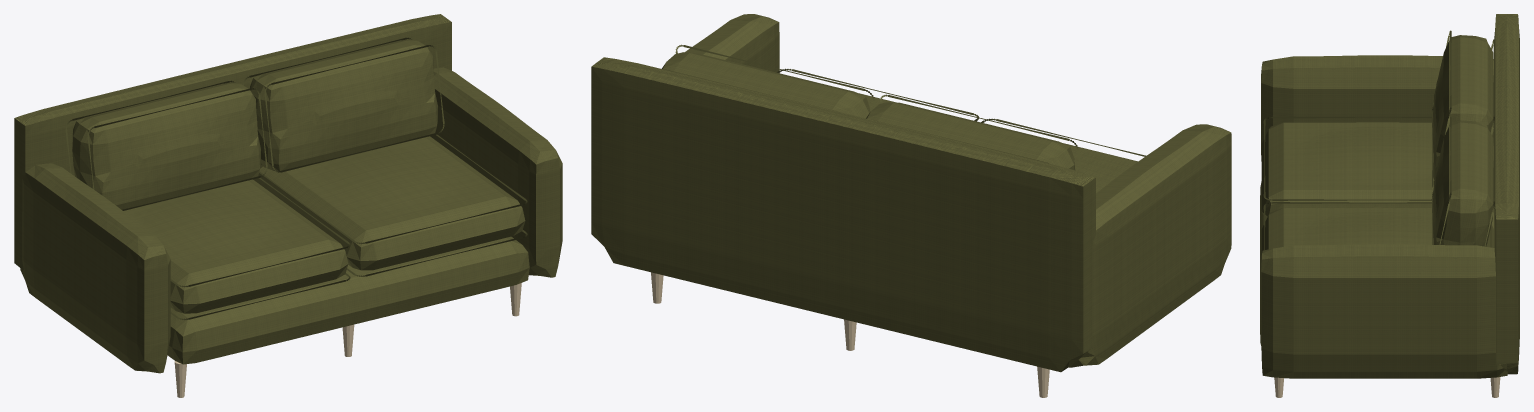
The model's file is ATL-SOF-2-seat.glb.
The picture shows the model from 3 angles, left to right: view 1: azimuth 30°, elevation 25°; view 2: azimuth 150°, elevation 25°; view 3: azimuth 270°, elevation 25°; orthographic projection. The views are drawn at different scales.
Visible parts, largest first — view 1: arm-pad-l:fabric:eyJwcmVzZXQiOiJoZXJyaW5nYm9uZSIsIndhcnAiOiJ, seat-2:fabric:eyJwcmVzZXQiOiJoZXJyaW5nYm9uZSIsIndhcnAiOiJvbG, seat-1:fabric:eyJwcmVzZXQiOiJoZXJyaW5nYm9uZSIsIndhcnAiOiJvbG, deck:fabric:eyJwcmVzZXQiOiJoZXJyaW5nYm9uZSIsIndhcnAiOiJvbGl2, back-2:fabric:eyJwcmVzZXQiOiJoZXJyaW5nYm9uZSIsIndhcnAiOiJvbG, back-1:fabric:eyJwcmVzZXQiOiJoZXJyaW5nYm9uZSIsIndhcnAiOiJvbG, arm-pad-r:fabric:eyJwcmVzZXQiOiJoZXJyaW5nYm9uZSIsIndhcnAiOiJ, back-pad:fabric:eyJwcmVzZXQiOiJoZXJyaW5nYm9uZSIsIndhcnAiOiJv, back-2:piping:pbr, back-1:piping:pbr, seat-2:piping:pbr, seat-1:piping:pbr; view 2: back-pad:fabric:eyJwcmVzZXQiOiJoZXJyaW5nYm9uZSIsIndhcnAiOiJv, arm-pad-l:fabric:eyJwcmVzZXQiOiJoZXJyaW5nYm9uZSIsIndhcnAiOiJ, back-1:fabric:eyJwcmVzZXQiOiJoZXJyaW5nYm9uZSIsIndhcnAiOiJvbG, back-2:fabric:eyJwcmVzZXQiOiJoZXJyaW5nYm9uZSIsIndhcnAiOiJvbG, arm-pad-r:fabric:eyJwcmVzZXQiOiJoZXJyaW5nYm9uZSIsIndhcnAiOiJ, seat-1:fabric:eyJwcmVzZXQiOiJoZXJyaW5nYm9uZSIsIndhcnAiOiJvbG; view 3: arm-pad-r:fabric:eyJwcmVzZXQiOiJoZXJyaW5nYm9uZSIsIndhcnAiOiJ, seat-1:fabric:eyJwcmVzZXQiOiJoZXJyaW5nYm9uZSIsIndhcnAiOiJvbG, arm-pad-l:fabric:eyJwcmVzZXQiOiJoZXJyaW5nYm9uZSIsIndhcnAiOiJ, back-pad:fabric:eyJwcmVzZXQiOiJoZXJyaW5nYm9uZSIsIndhcnAiOiJv, back-2:fabric:eyJwcmVzZXQiOiJoZXJyaW5nYm9uZSIsIndhcnAiOiJvbG, seat-2:fabric:eyJwcmVzZXQiOiJoZXJyaW5nYm9uZSIsIndhcnAiOiJvbG, back-1:fabric:eyJwcmVzZXQiOiJoZXJyaW5nYm9uZSIsIndhcnAiOiJvbG, seat-1:piping:pbr, back-2:piping:pbr, back-1:piping:pbr, seat-2:piping:pbr, deck:fabric:eyJwcmVzZXQiOiJoZXJyaW5nYm9uZSIsIndhcnAiOiJvbGl2.
Boxes of the visible parts, x1,y1,x2,y2 form: arm-pad-l:fabric:eyJwcmVzZXQiOiJoZXJyaW5nYm9uZSIsIndhcnAiOiJ: [20, 163, 170, 373]; seat-2:fabric:eyJwcmVzZXQiOiJoZXJyaW5nYm9uZSIsIndhcnAiOiJvbG: [253, 136, 525, 270]; seat-1:fabric:eyJwcmVzZXQiOiJoZXJyaW5nYm9uZSIsIndhcnAiOiJvbG: [123, 179, 348, 313]; deck:fabric:eyJwcmVzZXQiOiJoZXJyaW5nYm9uZSIsIndhcnAiOiJvbGl2: [167, 236, 529, 364]; back-2:fabric:eyJwcmVzZXQiOiJoZXJyaW5nYm9uZSIsIndhcnAiOiJvbG: [250, 39, 437, 171]; back-1:fabric:eyJwcmVzZXQiOiJoZXJyaW5nYm9uZSIsIndhcnAiOiJvbG: [72, 82, 260, 209]; arm-pad-r:fabric:eyJwcmVzZXQiOiJoZXJyaW5nYm9uZSIsIndhcnAiOiJ: [430, 67, 562, 277]; back-pad:fabric:eyJwcmVzZXQiOiJoZXJyaW5nYm9uZSIsIndhcnAiOiJv: [14, 14, 451, 269]; back-2:piping:pbr: [242, 37, 444, 172]; back-1:piping:pbr: [65, 80, 267, 210]; seat-2:piping:pbr: [259, 134, 527, 276]; seat-1:piping:pbr: [170, 177, 350, 320]; back-pad:fabric:eyJwcmVzZXQiOiJoZXJyaW5nYm9uZSIsIndhcnAiOiJv: [591, 57, 1095, 372]; arm-pad-l:fabric:eyJwcmVzZXQiOiJoZXJyaW5nYm9uZSIsIndhcnAiOiJ: [1068, 124, 1231, 367]; back-1:fabric:eyJwcmVzZXQiOiJoZXJyaW5nYm9uZSIsIndhcnAiOiJvbG: [866, 102, 1075, 170]; back-2:fabric:eyJwcmVzZXQiOiJoZXJyaW5nYm9uZSIsIndhcnAiOiJvbG: [661, 52, 870, 118]; arm-pad-r:fabric:eyJwcmVzZXQiOiJoZXJyaW5nYm9uZSIsIndhcnAiOiJ: [685, 14, 779, 72]; seat-1:fabric:eyJwcmVzZXQiOiJoZXJyaW5nYm9uZSIsIndhcnAiOiJvbG: [1063, 143, 1137, 192]; arm-pad-r:fabric:eyJwcmVzZXQiOiJoZXJyaW5nYm9uZSIsIndhcnAiOiJ: [1261, 244, 1507, 378]; seat-1:fabric:eyJwcmVzZXQiOiJoZXJyaW5nYm9uZSIsIndhcnAiOiJvbG: [1261, 122, 1493, 219]; arm-pad-l:fabric:eyJwcmVzZXQiOiJoZXJyaW5nYm9uZSIsIndhcnAiOiJ: [1261, 55, 1494, 161]; back-pad:fabric:eyJwcmVzZXQiOiJoZXJyaW5nYm9uZSIsIndhcnAiOiJv: [1494, 14, 1519, 374]; back-2:fabric:eyJwcmVzZXQiOiJoZXJyaW5nYm9uZSIsIndhcnAiOiJvbG: [1432, 120, 1493, 246]; seat-2:fabric:eyJwcmVzZXQiOiJoZXJyaW5nYm9uZSIsIndhcnAiOiJvbG: [1261, 207, 1493, 254]; back-1:fabric:eyJwcmVzZXQiOiJoZXJyaW5nYm9uZSIsIndhcnAiOiJvbG: [1432, 35, 1493, 179]; seat-1:piping:pbr: [1263, 116, 1431, 200]; back-2:piping:pbr: [1432, 116, 1494, 246]; back-1:piping:pbr: [1432, 30, 1494, 189]; seat-2:piping:pbr: [1263, 202, 1491, 250]; deck:fabric:eyJwcmVzZXQiOiJoZXJyaW5nYm9uZSIsIndhcnAiOiJvbGl2: [1260, 181, 1494, 345].
Size of the model in its own units: 1.7 by 0.78 by 0.9.
18 materials, 8 textured.
